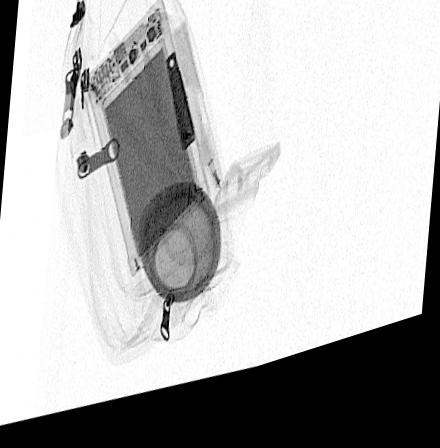Powerbank: (81, 1, 211, 290)
